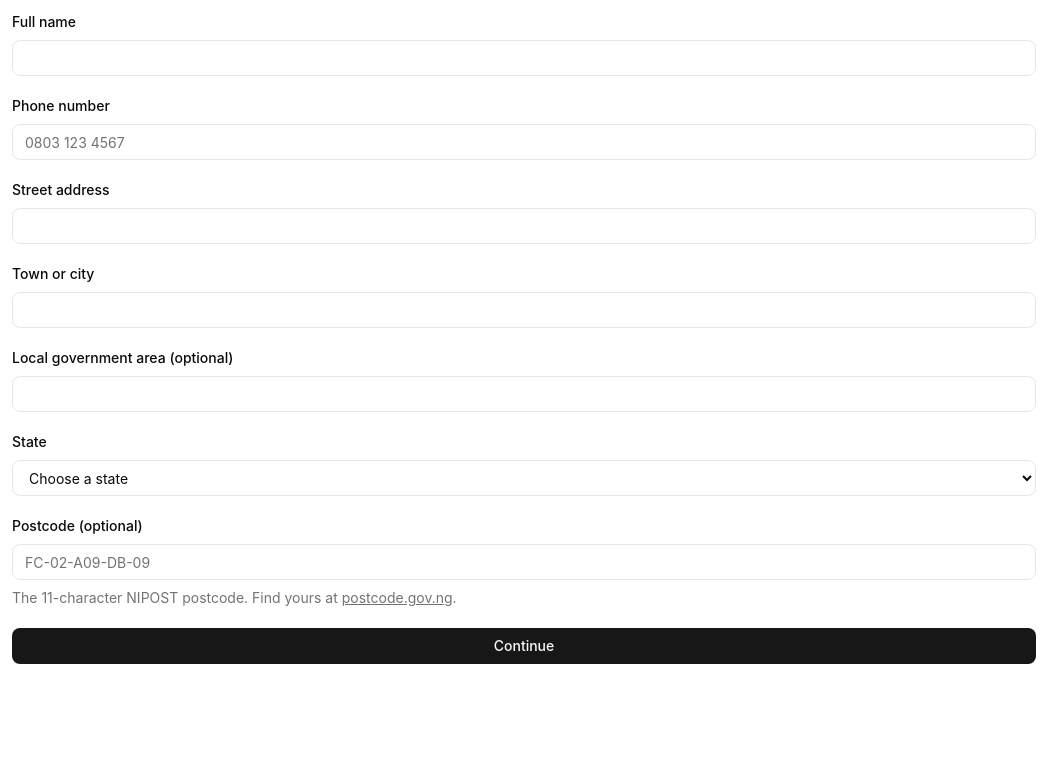
Scenario: offers a fix for look-alike characters
The width and height of the screenshot is (1048, 780).
Type "FC-O2-A09-DB-O9" into the field labelled "Postcode (optional)". click: (524, 562)
box: [12, 544, 1036, 580]
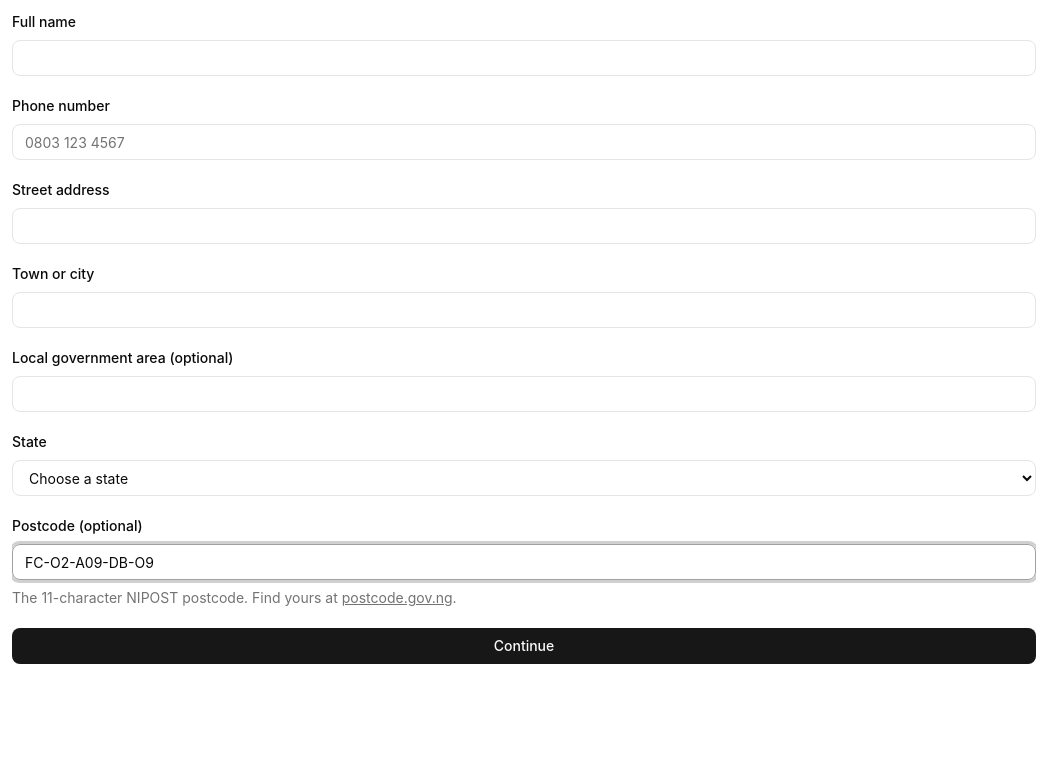
Press Tab
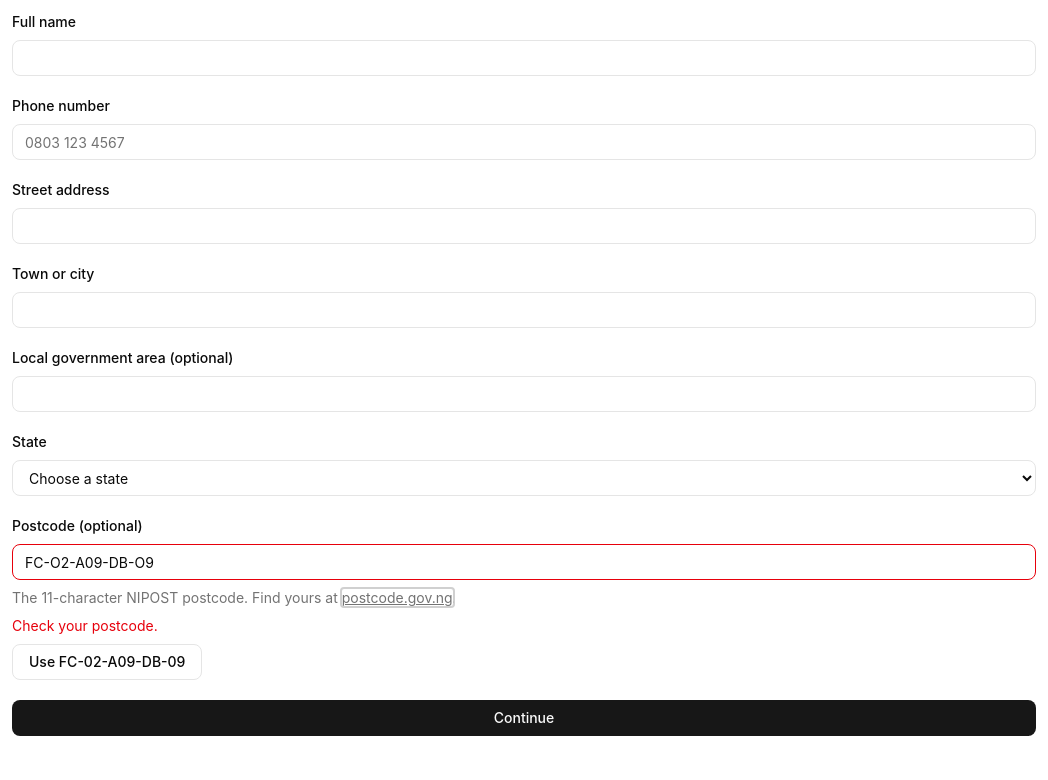
Click the button "Use FC-02-A09-DB-09". click: (107, 662)
box: [12, 644, 202, 680]
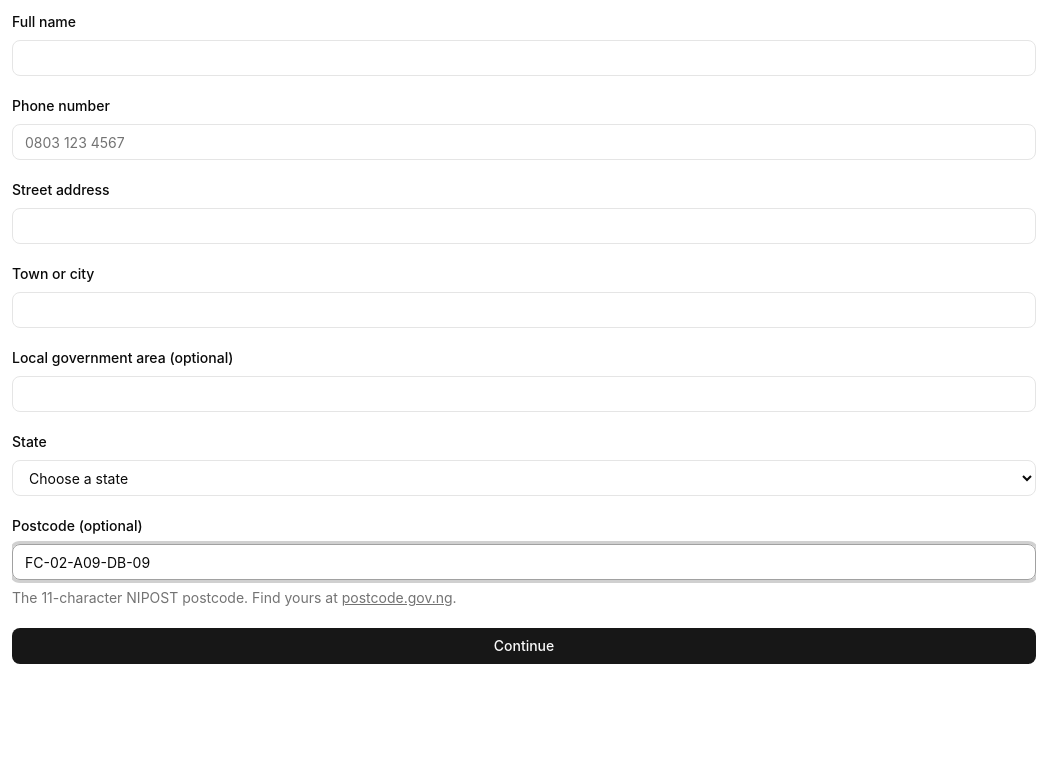
Check: the field labelled "Postcode (optional)" holds "FC-02-A09-DB-09", box [12, 544, 1036, 580]
